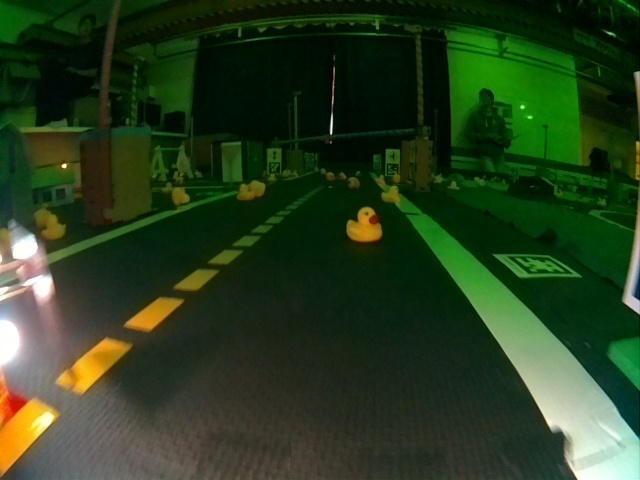Duckie: (346, 207, 382, 242), (41, 216, 66, 239), (381, 186, 400, 202), (34, 207, 49, 227), (173, 187, 187, 205), (237, 184, 253, 199), (250, 180, 265, 193), (347, 178, 360, 188), (376, 175, 385, 184), (162, 182, 171, 191), (392, 174, 401, 182), (448, 181, 458, 188), (326, 173, 334, 180), (338, 173, 346, 180)
Intersection sign: (386, 150, 399, 162)
QR code: (494, 253, 580, 278), (387, 164, 398, 175), (271, 163, 281, 173)
Signal sign: (269, 149, 280, 161)
